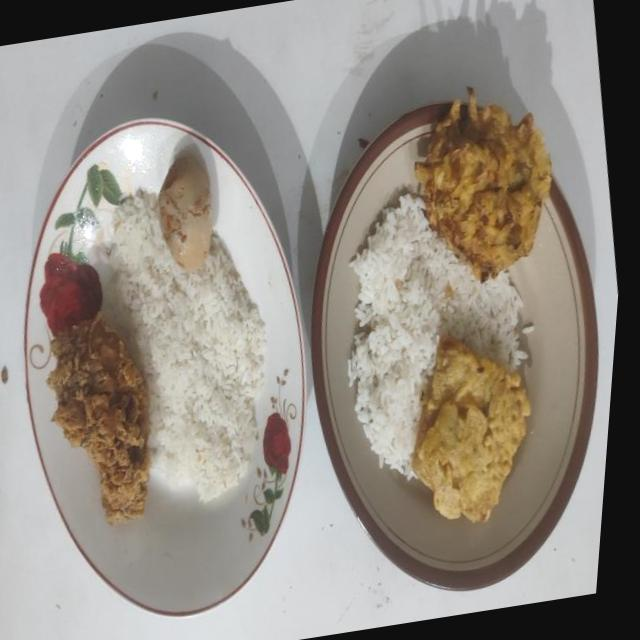nasi_putih: (348, 193, 523, 480), (110, 189, 266, 501)
